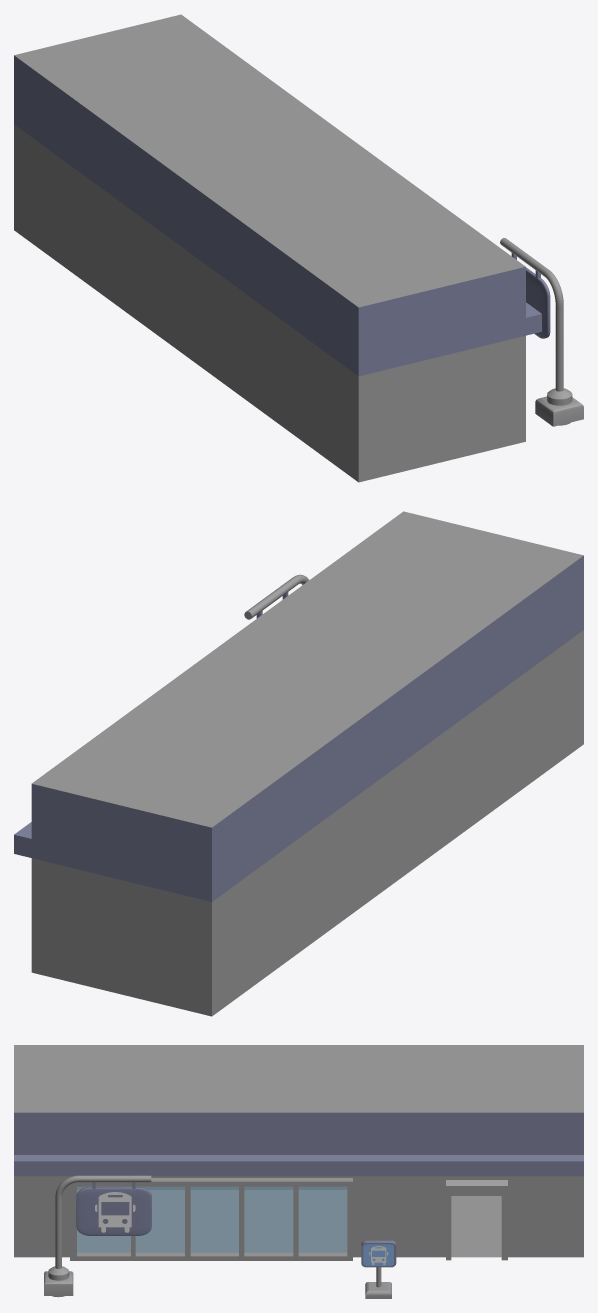
File: Bina.fbx
The picture shows the model from 3 angles, top to bottom: view 1: azimuth 30°, elevation 25°; view 2: azimuth 150°, elevation 25°; view 3: azimuth 270°, elevation 25°; orthographic projection. The views are drawn at different scales.
Visible parts, largest first — view 1: Cube.001, Cylinder, Cube.005, Cube.003; view 2: Cube.001, Cylinder; view 3: Cube.001, Cube.005, Cylinder, Cube.008, Bus Png.001, Cube.003, Cube.007.
Part boxes in pixels (<box>): Cube.001: <box>14,14,541,482</box>; Cylinder: <box>500,238,572,425</box>; Cube.005: <box>511,253,550,338</box>; Cube.003: <box>535,396,583,426</box>; Cube.001: <box>14,511,583,1016</box>; Cylinder: <box>244,574,308,619</box>; Cube.001: <box>14,1045,583,1260</box>; Cube.005: <box>76,1182,151,1235</box>; Cylinder: <box>48,1175,151,1297</box>; Cube.008: <box>361,1240,396,1267</box>; Bus Png.001: <box>95,1192,135,1232</box>; Cube.003: <box>44,1271,73,1295</box>; Cube.007: <box>365,1282,391,1298</box>.
Size of the model in its own units: 318 by 215 by 714.
